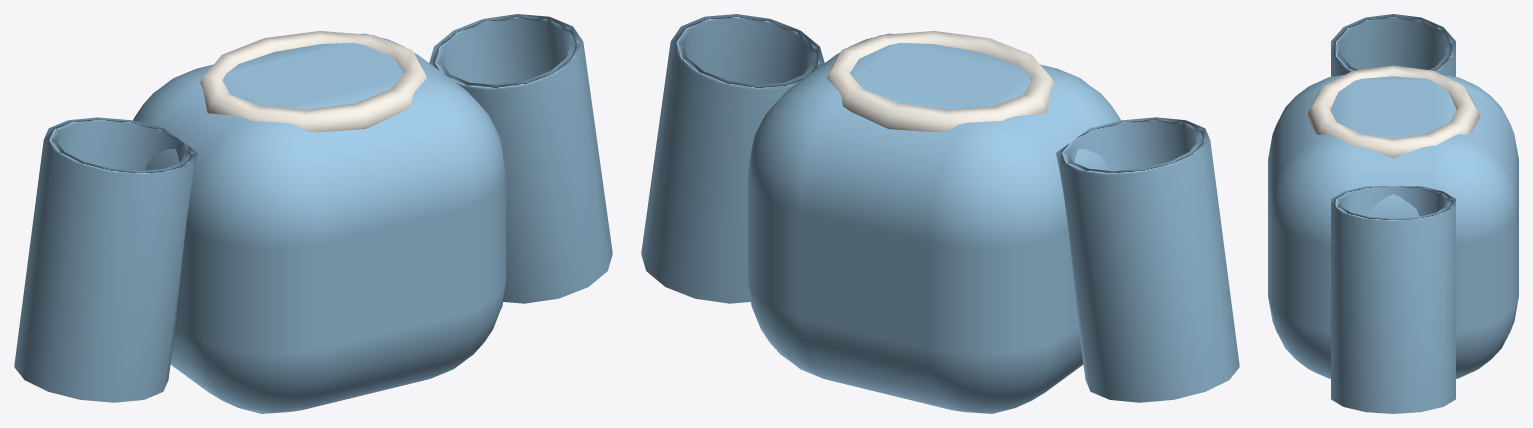
File: baggy_shirt.glb
3 renders of one model, left to right at view 1: azimuth 30°, elevation 25°; view 2: azimuth 150°, elevation 25°; view 3: azimuth 270°, elevation 25°, orthographic. The views are drawn at different scales.
Parts seen in each view (by area): view 1: baggy_shirt_Body, baggy_shirt_ArmL, baggy_shirt_ArmR; view 2: baggy_shirt_Body, baggy_shirt_ArmL, baggy_shirt_ArmR; view 3: baggy_shirt_Body, baggy_shirt_ArmR, baggy_shirt_ArmL.
Boxes of the visible parts, x1=… form: baggy_shirt_Body: x1=133, y1=31, x2=506, y2=413; baggy_shirt_ArmL: x1=14, y1=117, x2=197, y2=402; baggy_shirt_ArmR: x1=429, y1=14, x2=612, y2=303; baggy_shirt_Body: x1=747, y1=31, x2=1120, y2=413; baggy_shirt_ArmL: x1=1056, y1=117, x2=1239, y2=402; baggy_shirt_ArmR: x1=641, y1=14, x2=824, y2=303; baggy_shirt_Body: x1=1268, y1=65, x2=1518, y2=378; baggy_shirt_ArmR: x1=1331, y1=186, x2=1455, y2=413; baggy_shirt_ArmL: x1=1331, y1=14, x2=1455, y2=76.
Size of the model in its own units: 0.6334 by 0.3119 by 0.29.
